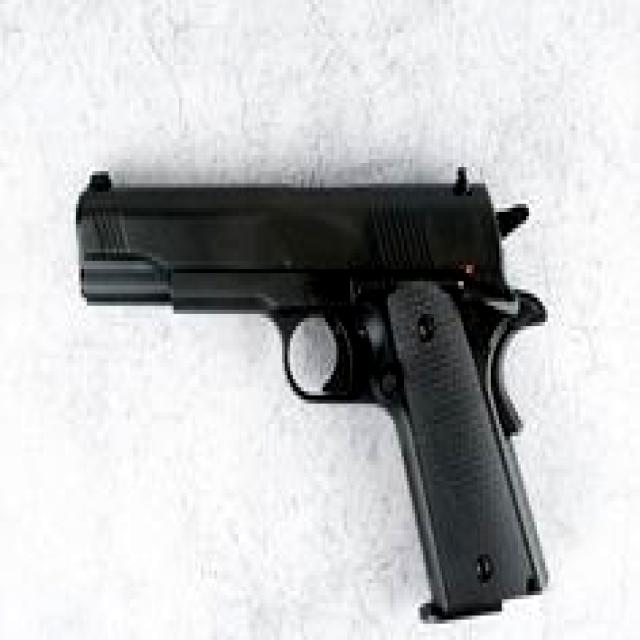semi automatic: (70, 135, 558, 631)
